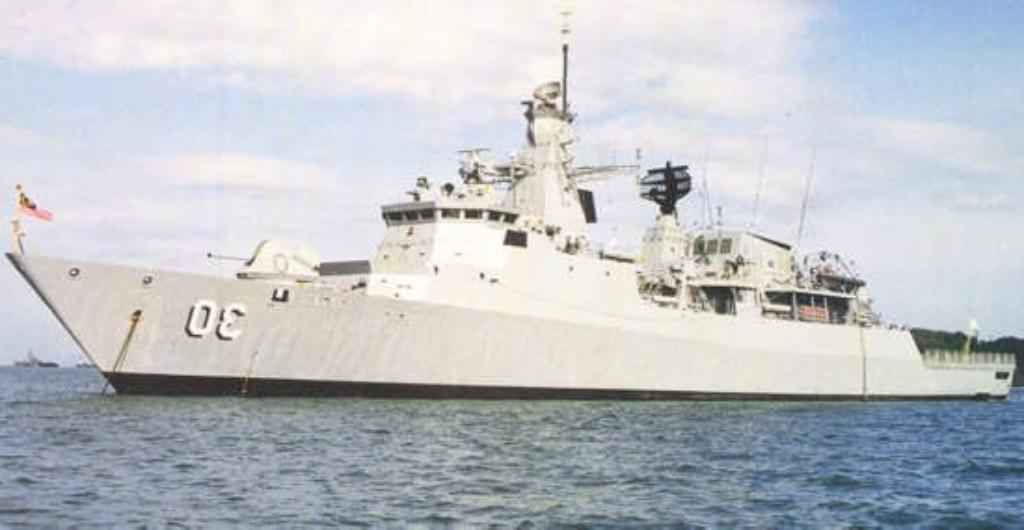Warship: (6, 3, 1022, 405)
